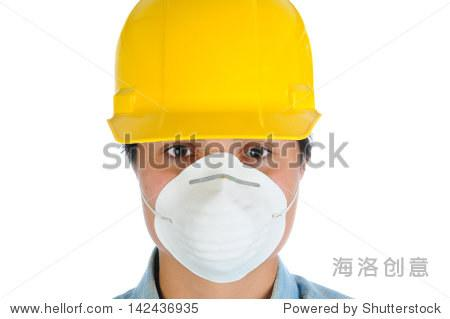helmet: (109, 2, 327, 148)
